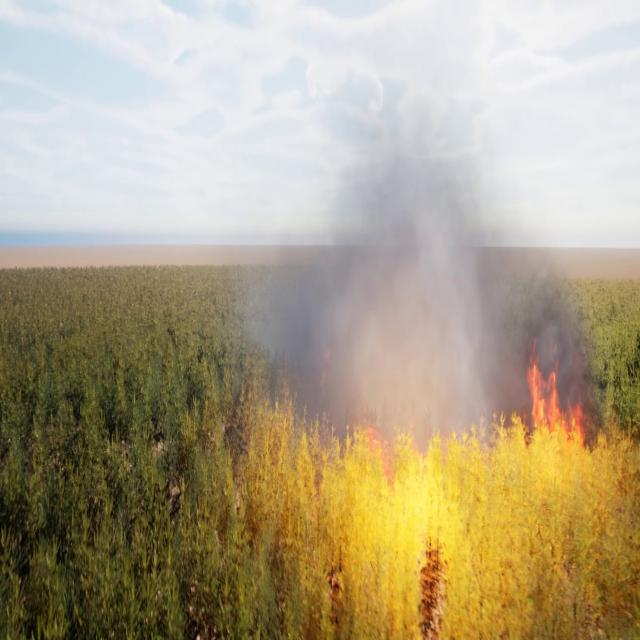fire: (276, 421, 631, 595), (526, 338, 586, 442)
smoke: (246, 75, 602, 435)
